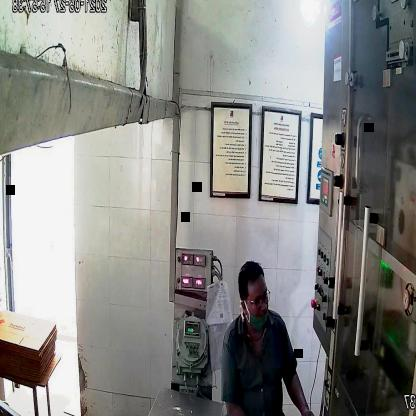goggles: (239, 288, 272, 312)
